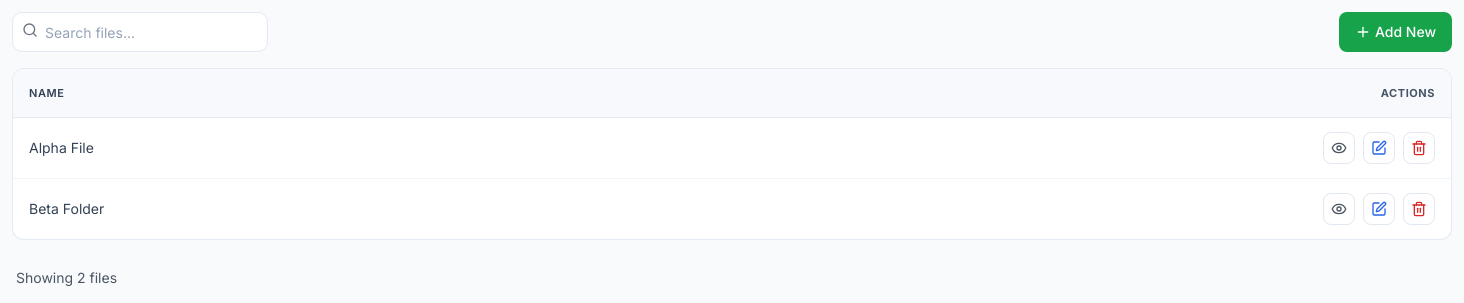
Test: FileManagerDataTable › filters rows by search text
expect the text "Alpha File" is shown: met, box [13, 118, 627, 178]
expect the text "Beta Folder" is shown: met, box [13, 178, 627, 239]
In the search field: (140, 32) [12, 12, 268, 52], type "Alpha"
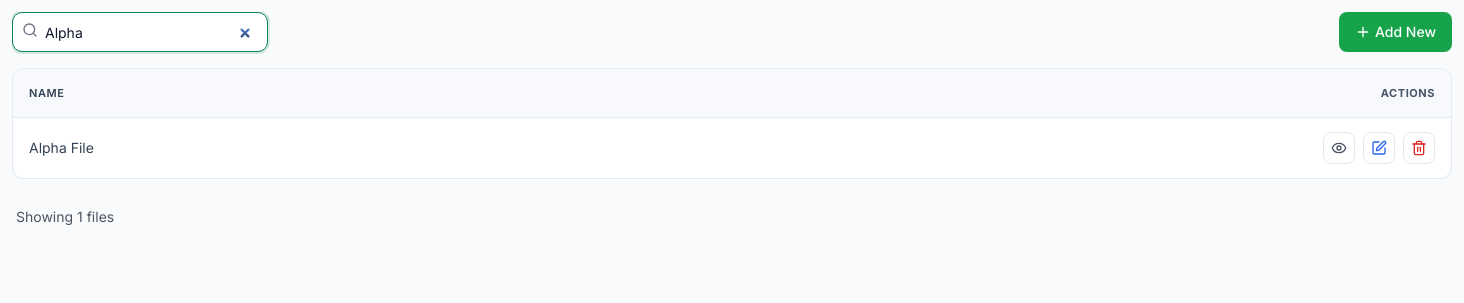
expect the text "Alpha File" is shown: met, box [13, 118, 592, 178]
expect the text "Beta Folder" is gone: met
